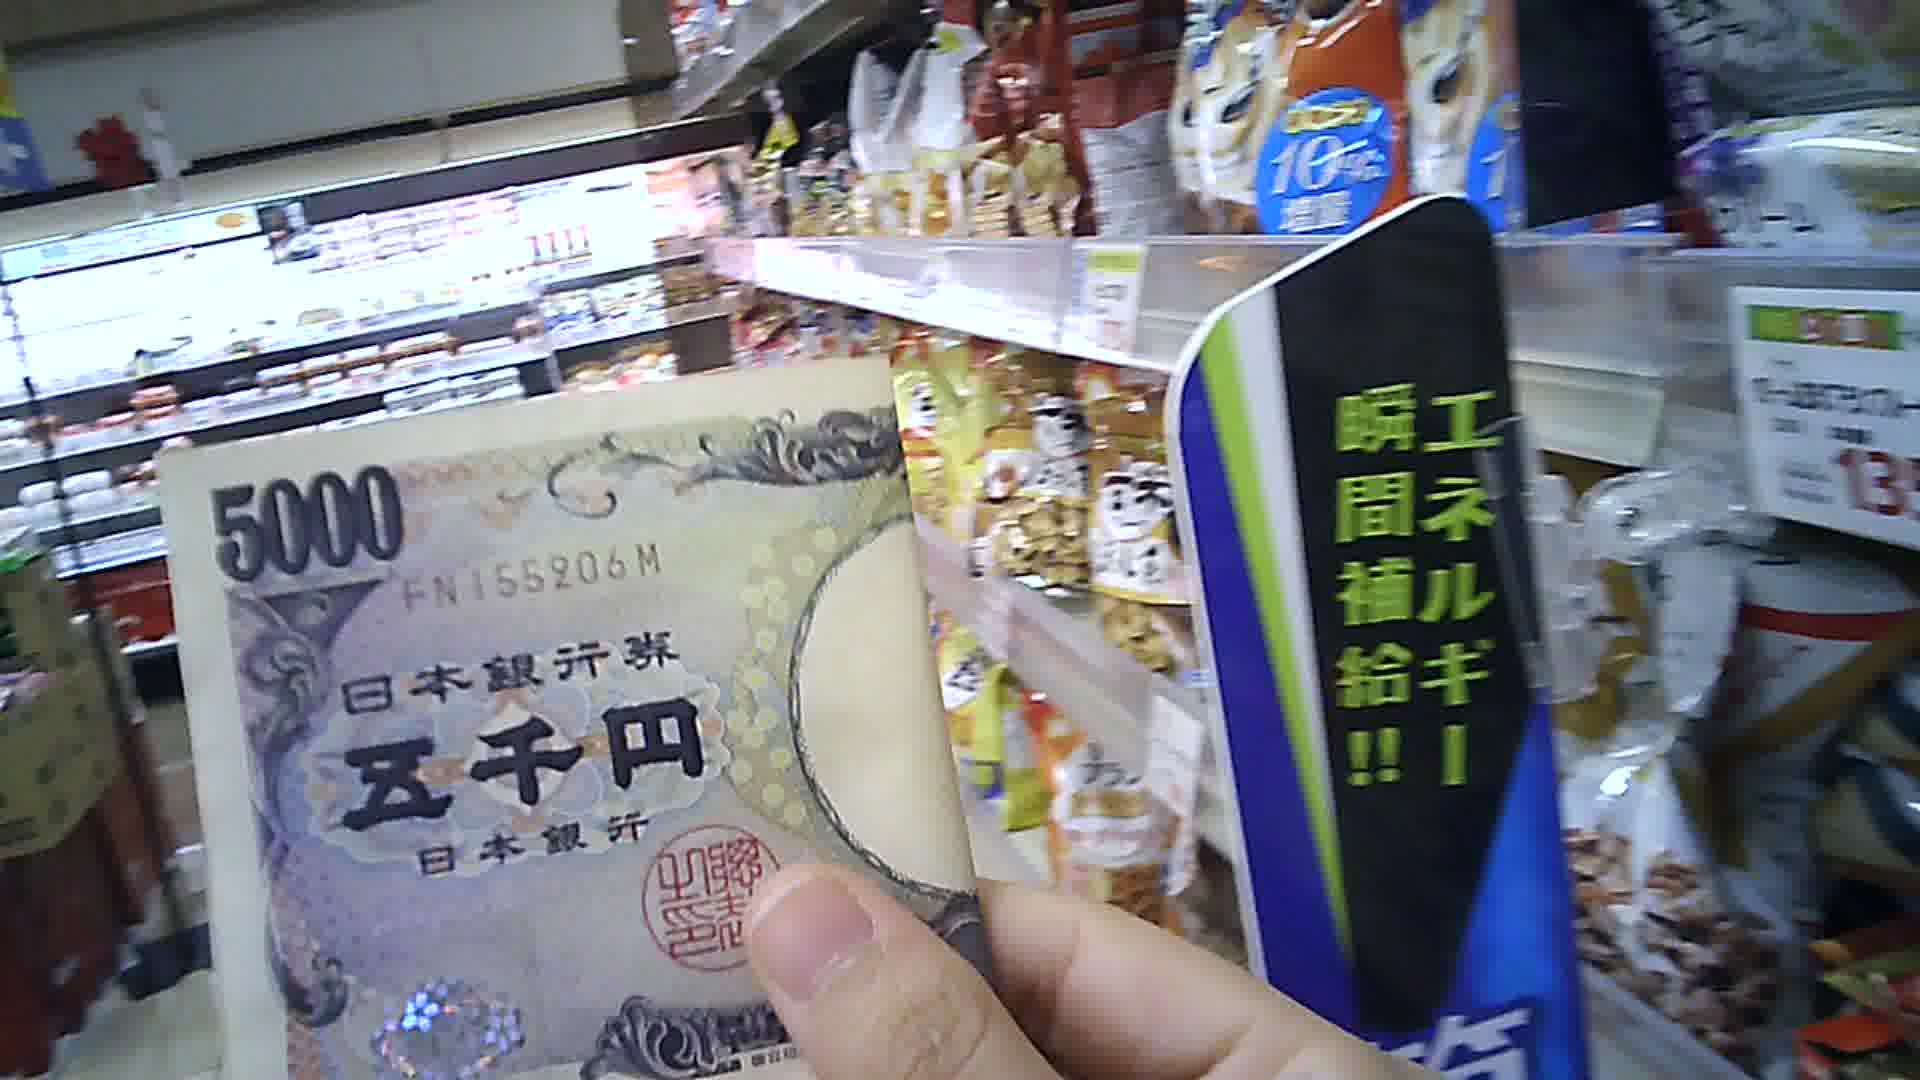5,000 Yen: (156, 360, 990, 1069)
